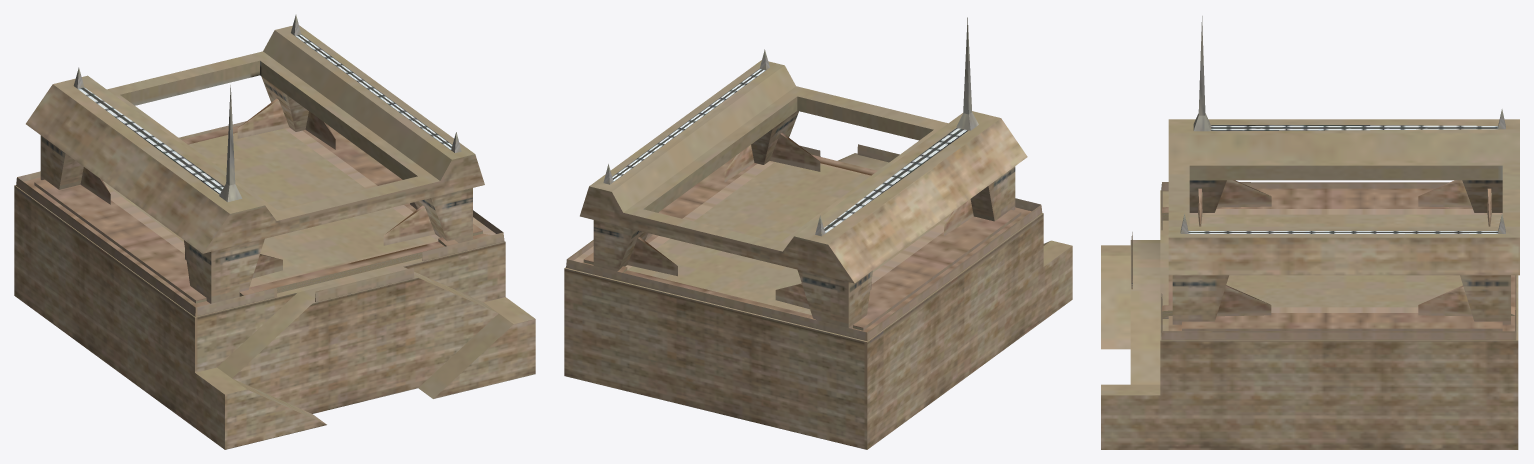
Rendered from ply_nboo_shuttleport_s01_l2.fbx.
The picture shows the model from 3 angles, left to right: view 1: azimuth 30°, elevation 25°; view 2: azimuth 150°, elevation 25°; view 3: azimuth 270°, elevation 25°; orthographic projection. The views are drawn at different scales.
Parts seen in each view (by area): view 1: mesh_node; view 2: mesh_node; view 3: mesh_node.
Boxes of the visible parts, x1,y1,x2,y2 form: mesh_node: [14, 14, 535, 449]; mesh_node: [564, 17, 1072, 449]; mesh_node: [1101, 16, 1519, 449].
Bounding box in the file's own units: 31.92 × 31.06 × 37.63.
Materials: 1 (1 with a texture image).
